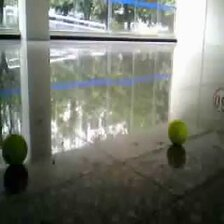tennis: (3, 134, 27, 166), (169, 119, 188, 145)
